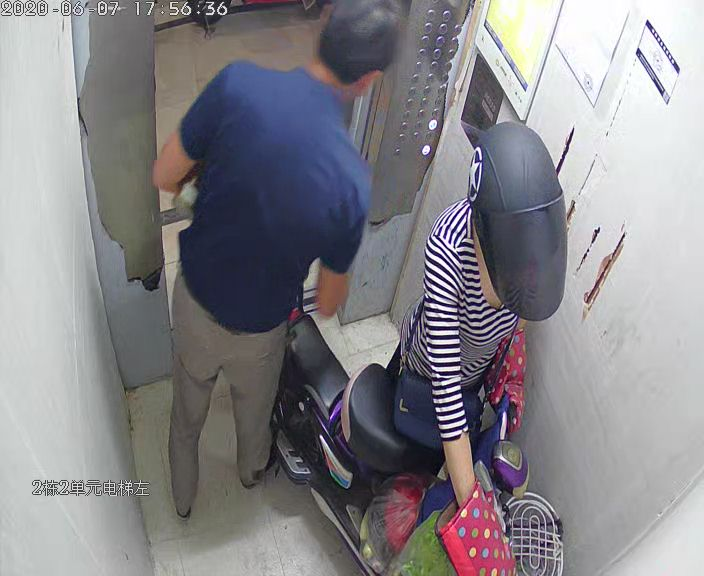Electric-bicycle: (274, 306, 565, 576)
